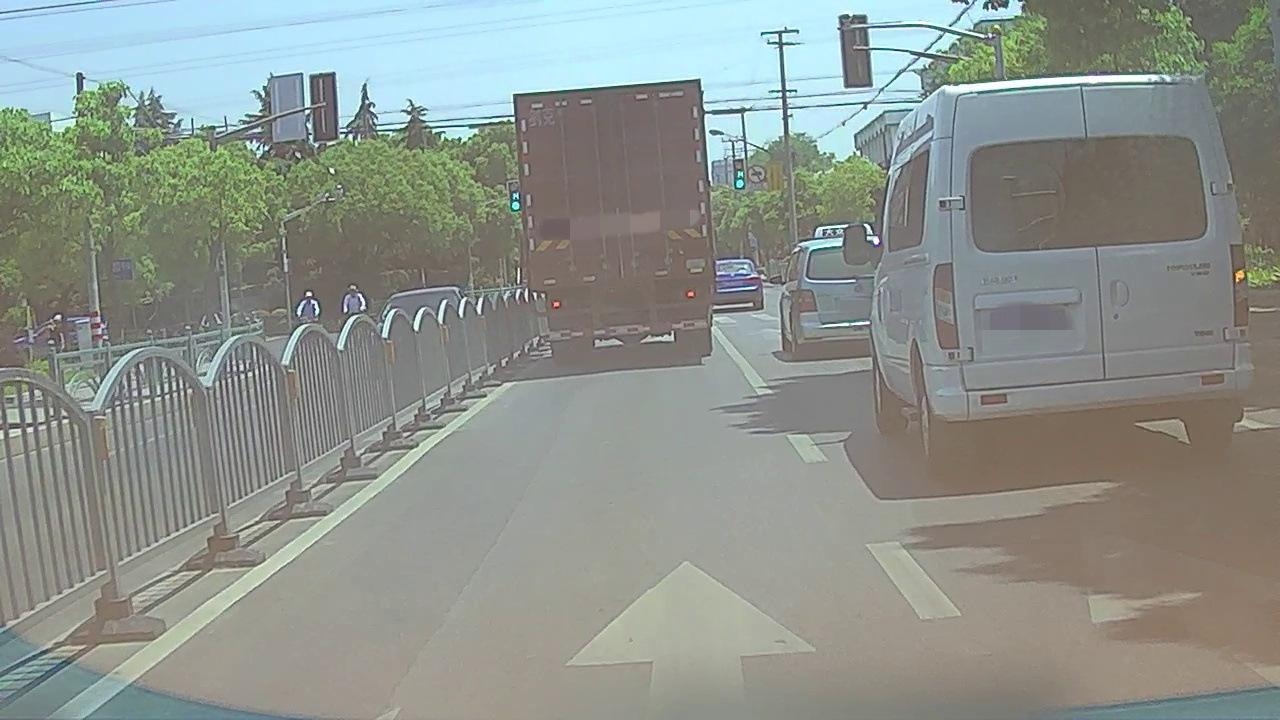traffic_light: (507, 183, 522, 211), (734, 158, 745, 189)
